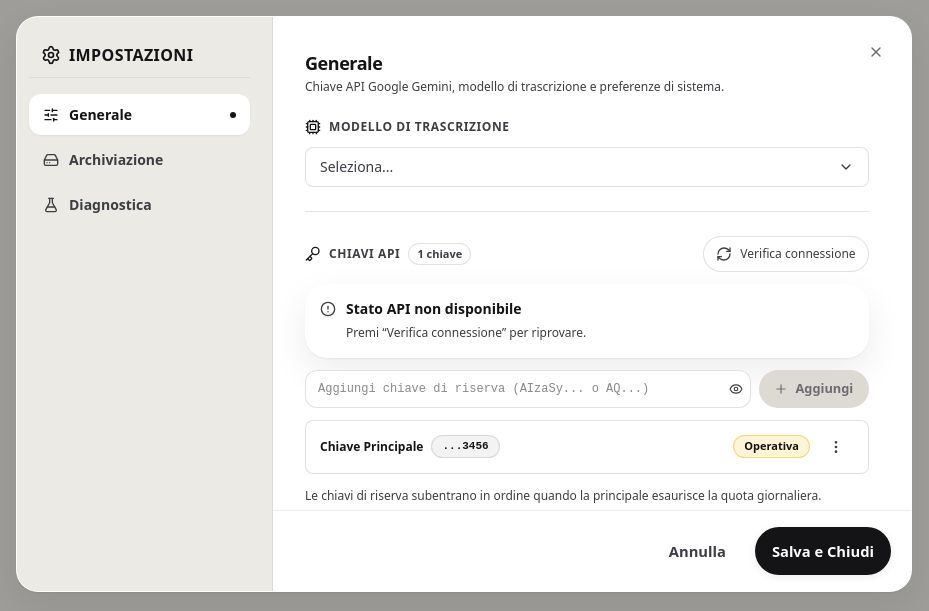
Test: SettingsModal — model parameters chunk display › keeps the saved modal open when credentials are session-only
Click the button "Salva e Chiudi" at (823, 551), box [755,527,891,575]
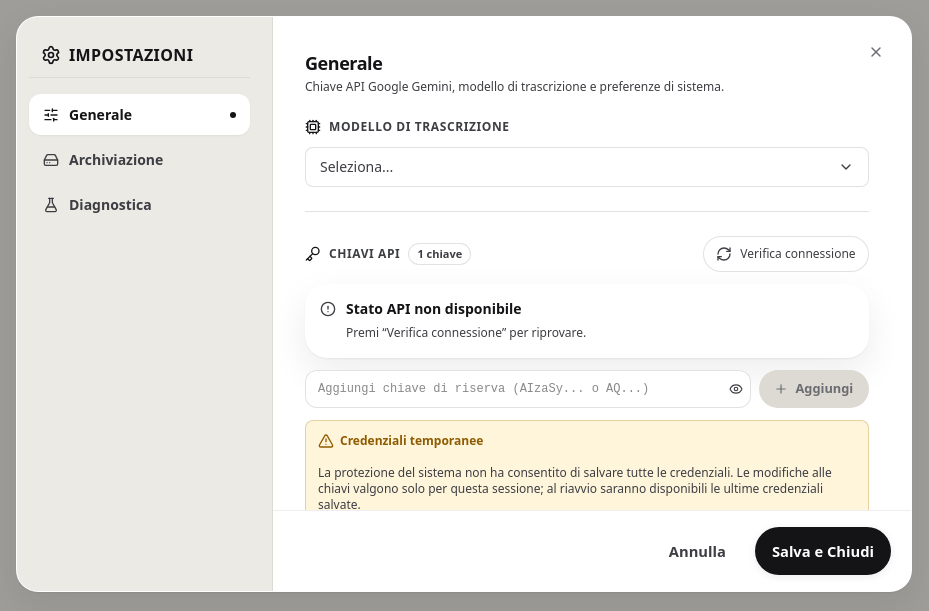
Now the text "Credenziali temporanee" is shown, box [318,432,483,448]
Now the text "al riavvio saranno disponibili" is shown, box [318,464,832,510]
